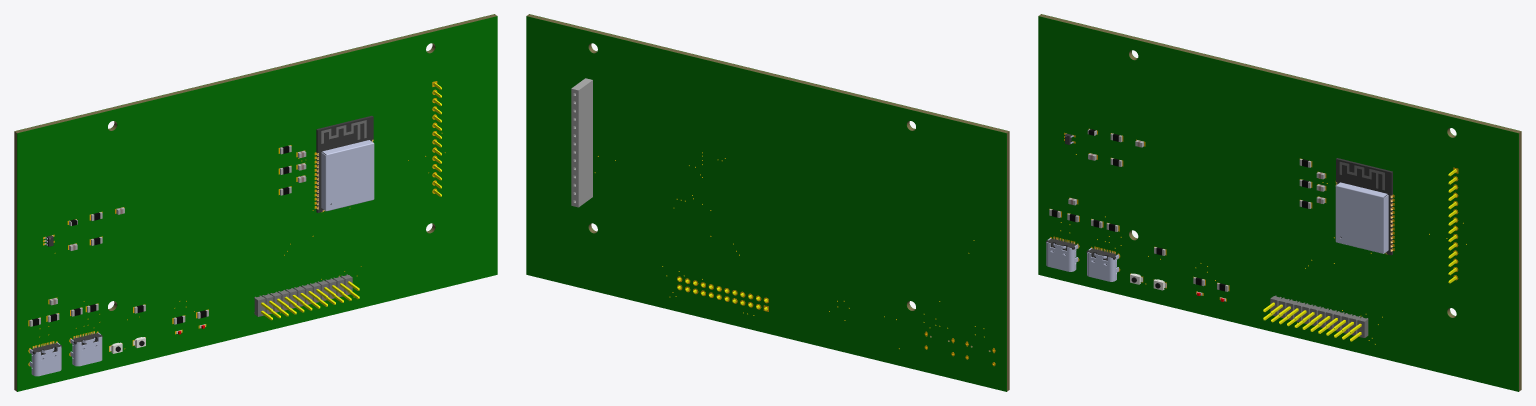
File: Main Board.obj
3 views of the same model, side by side, from view 1: azimuth 30°, elevation 25°; view 2: azimuth 150°, elevation 25°; view 3: azimuth 330°, elevation 25° (orthographic).
Visible parts, largest first — view 1: Body1:2, Body1:32, Board, Body1:9, Body43:1, Body1:10, Body44, Body44:2, Body3, Body1:5; view 2: Body1:3, Body1:4, Board, Body2:1; view 3: Body1:2, Body1:32, Board, Body1:9, Body43:1, Body1:10, Body44:2, Body44, Body3, Body1:5.
Part boxes in pixels (x1,y1,x2,y2): Body1:2: (17, 16, 497, 391); Body1:32: (321, 140, 374, 211); Board: (14, 14, 496, 391); Body1:9: (254, 274, 352, 316); Body43:1: (316, 115, 373, 212); Body1:10: (261, 281, 359, 320); Body44: (70, 332, 102, 366); Body44:2: (29, 342, 61, 376); Body3: (28, 140, 373, 351); Body1:5: (433, 82, 441, 196); Body1:3: (526, 16, 1006, 391); Body1:4: (571, 78, 592, 207); Board: (527, 14, 1009, 391); Body2:1: (677, 276, 995, 365); Body1:2: (1038, 16, 1518, 391); Body1:32: (1335, 182, 1388, 253); Board: (1039, 14, 1521, 391); Body1:9: (1270, 295, 1368, 337); Body43:1: (1336, 158, 1392, 255); Body1:10: (1263, 302, 1361, 341); Body44:2: (1046, 238, 1078, 271); Body44: (1087, 248, 1119, 281); Body3: (1049, 128, 1394, 301); Body1:5: (1448, 169, 1457, 283).
Size of the model in its own units: 15.49 by 7.97 by 1.8.
